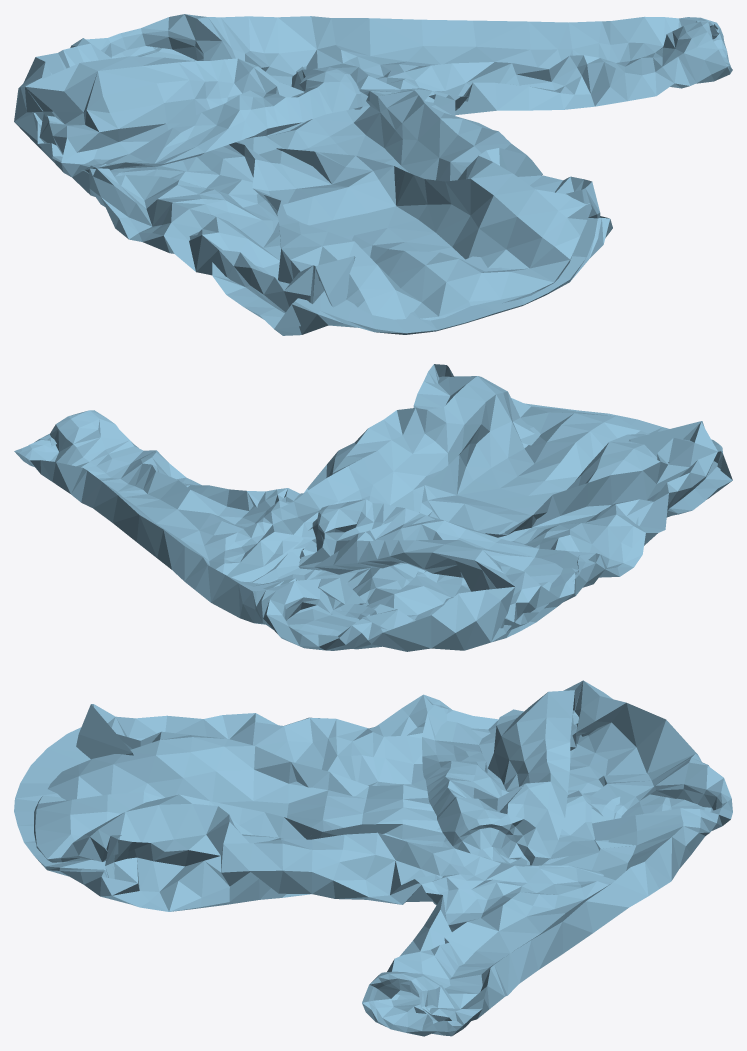
The model's file is frame_20.glb.
3 views of the same model, one above another, from view 1: azimuth 30°, elevation 25°; view 2: azimuth 150°, elevation 25°; view 3: azimuth 270°, elevation 25° (orthographic). The views are drawn at different scales.
Visible parts, largest first — view 1: frame_20.obj; view 2: frame_20.obj; view 3: frame_20.obj.
Part boxes in pixels (x1,y1,x2,y2): frame_20.obj: [14, 14, 732, 335]; frame_20.obj: [14, 364, 732, 651]; frame_20.obj: [14, 680, 732, 1036].
Size of the model in its own units: 1.41 by 0.2164 by 1.39.
